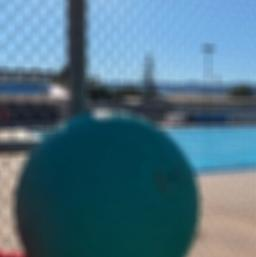algae: (10, 110, 203, 257)
